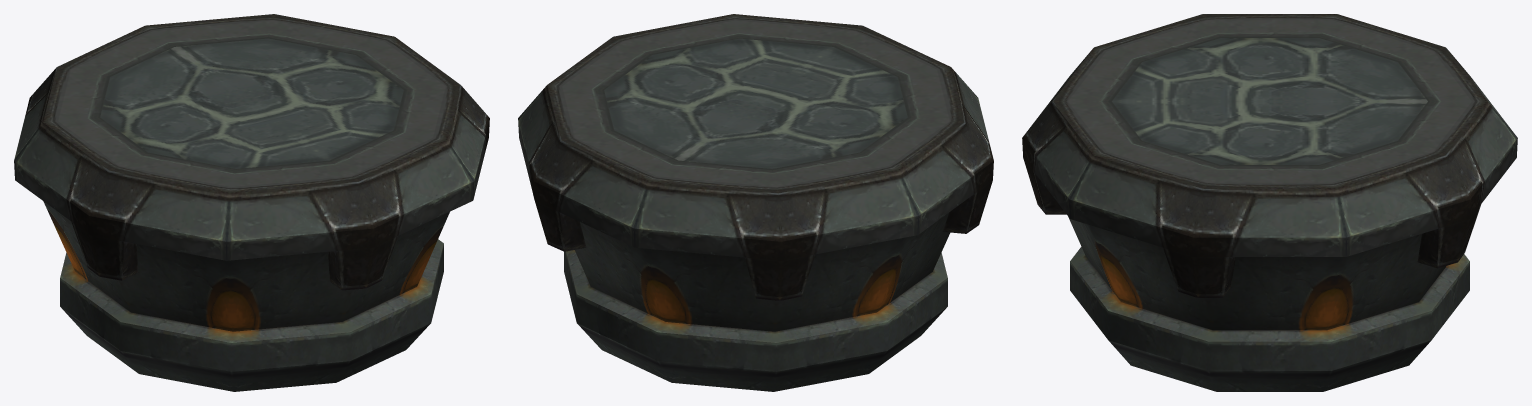
Rendered from common_jingjichang_yuantai00.FBX.
The picture shows the model from 3 angles, left to right: view 1: azimuth 30°, elevation 25°; view 2: azimuth 150°, elevation 25°; view 3: azimuth 270°, elevation 25°; orthographic projection.
Visible parts, largest first — view 1: common_jingjichang_yuantai00; view 2: common_jingjichang_yuantai00; view 3: common_jingjichang_yuantai00.
Part boxes in pixels (<box>): common_jingjichang_yuantai00: <box>14,14,489,391</box>; common_jingjichang_yuantai00: <box>518,14,993,391</box>; common_jingjichang_yuantai00: <box>1022,14,1517,391</box>.
Size of the model in its own units: 2.47 by 1.28 by 2.6.
